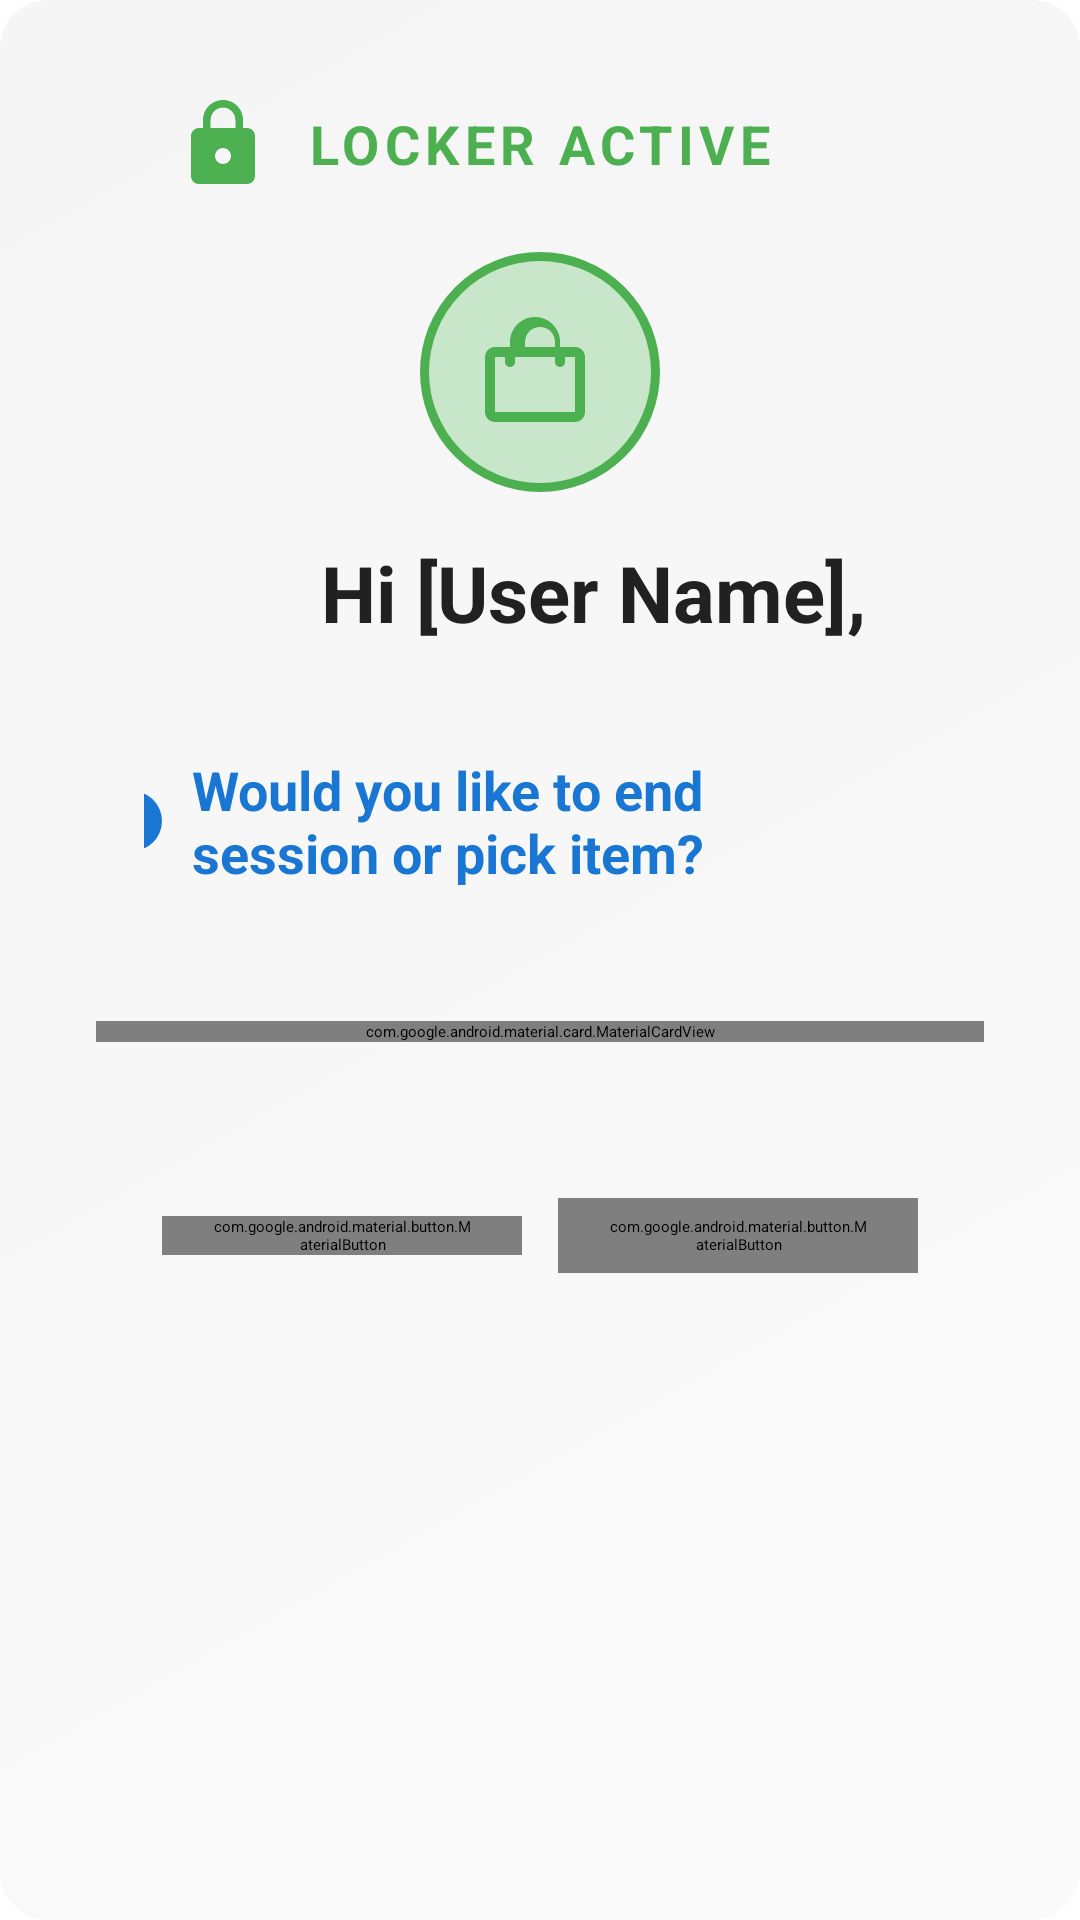

Icons on this 1080px x 1920px Android screen, each with the point to tap as [x,y]:
shopping bag: [540,372]
